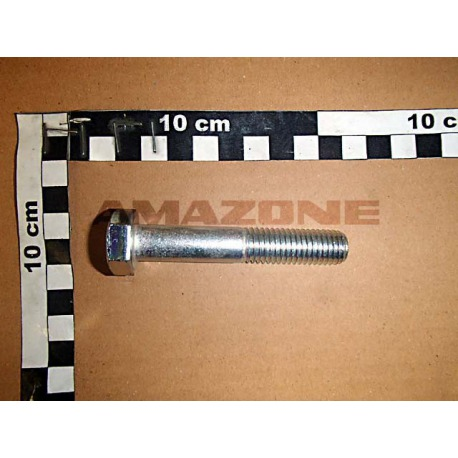screw: (106, 207, 350, 279)
